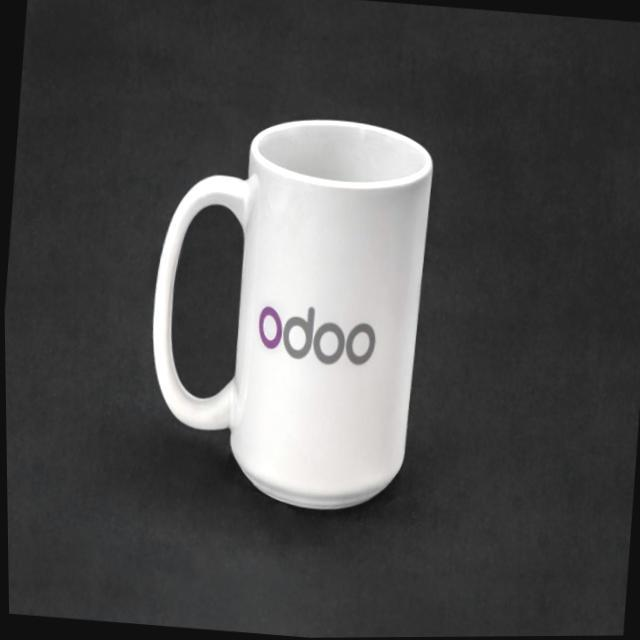cup: (118, 93, 440, 552)
